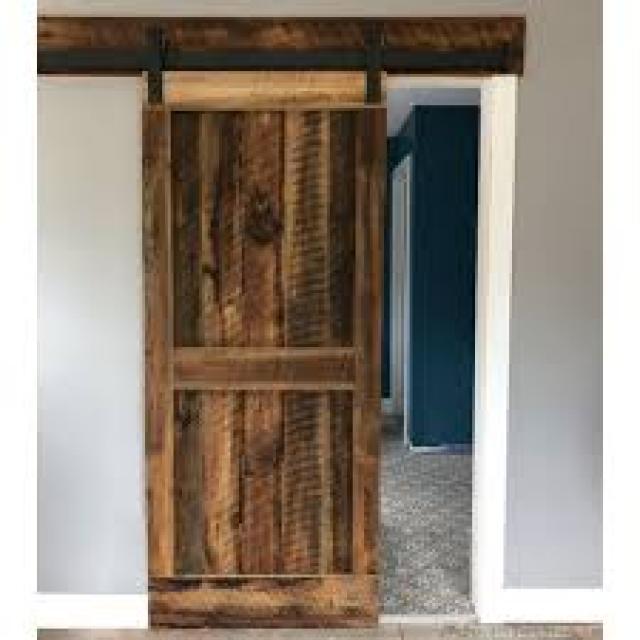Woods: (145, 74, 384, 629)
